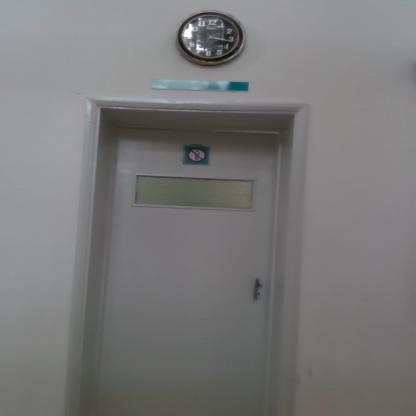closed: (74, 90, 329, 413)
